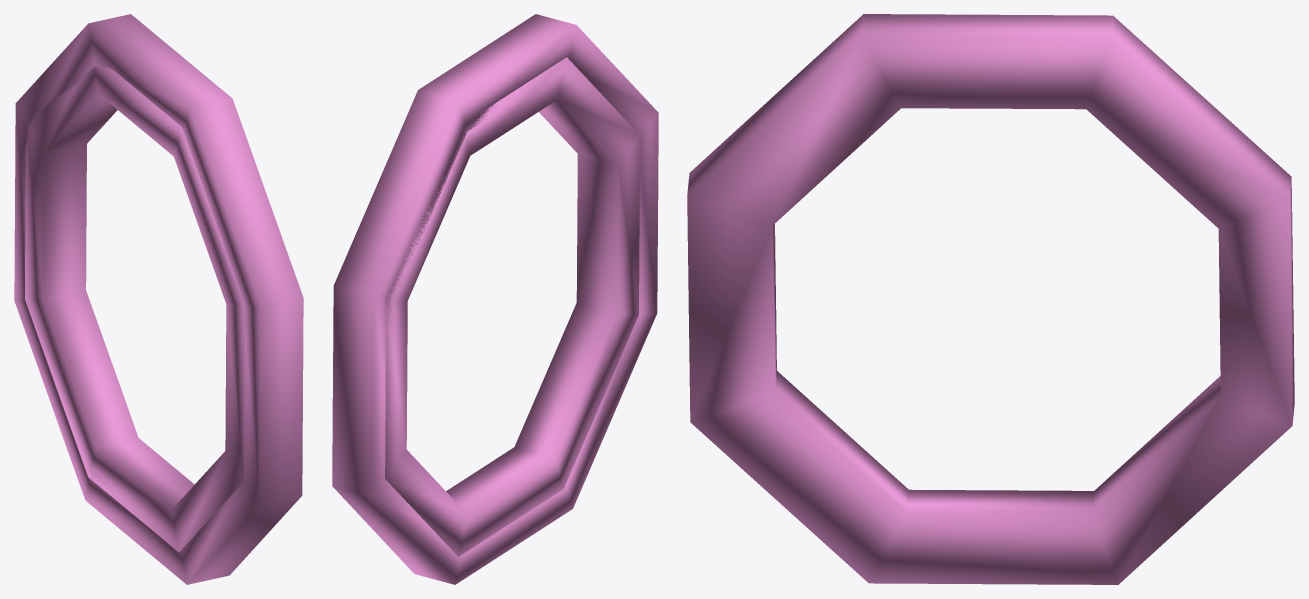
Rendered from MakineKapağı.fbx.
3 views of the same model, side by side, from view 1: azimuth 30°, elevation 25°; view 2: azimuth 150°, elevation 25°; view 3: azimuth 270°, elevation 25° (orthographic). The views are drawn at different scales.
Parts seen in each view (by area): view 1: Cylinder.002; view 2: Cylinder.002; view 3: Cylinder.002.
Boxes of the visible parts, <box> form: Cylinder.002: <box>14,14,303,584</box>; Cylinder.002: <box>332,14,658,584</box>; Cylinder.002: <box>687,14,1294,584</box>.
Bounding box in the file's own units: 19.29 × 147 × 147.
